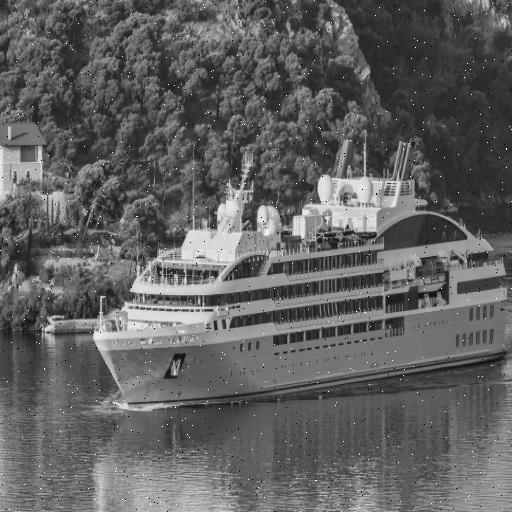cruises: (91, 137, 512, 419)
